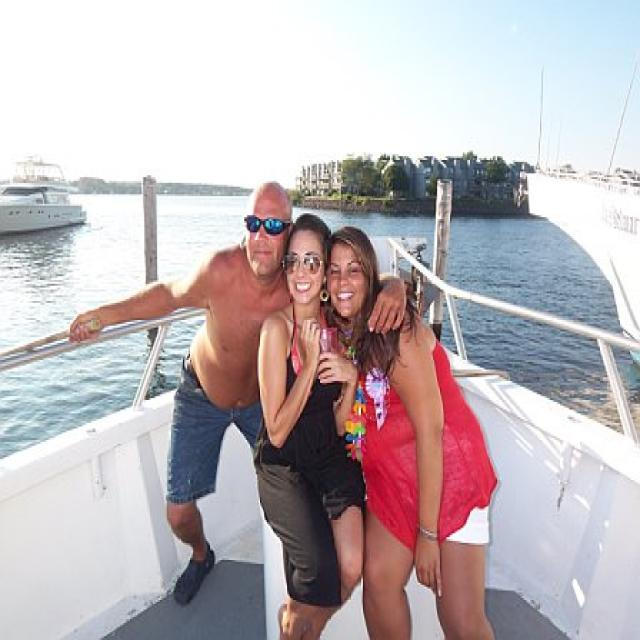boat: (1, 228, 640, 639), (525, 169, 640, 340), (1, 154, 88, 236)
person: (69, 180, 294, 607), (328, 226, 497, 639), (257, 213, 364, 639)
